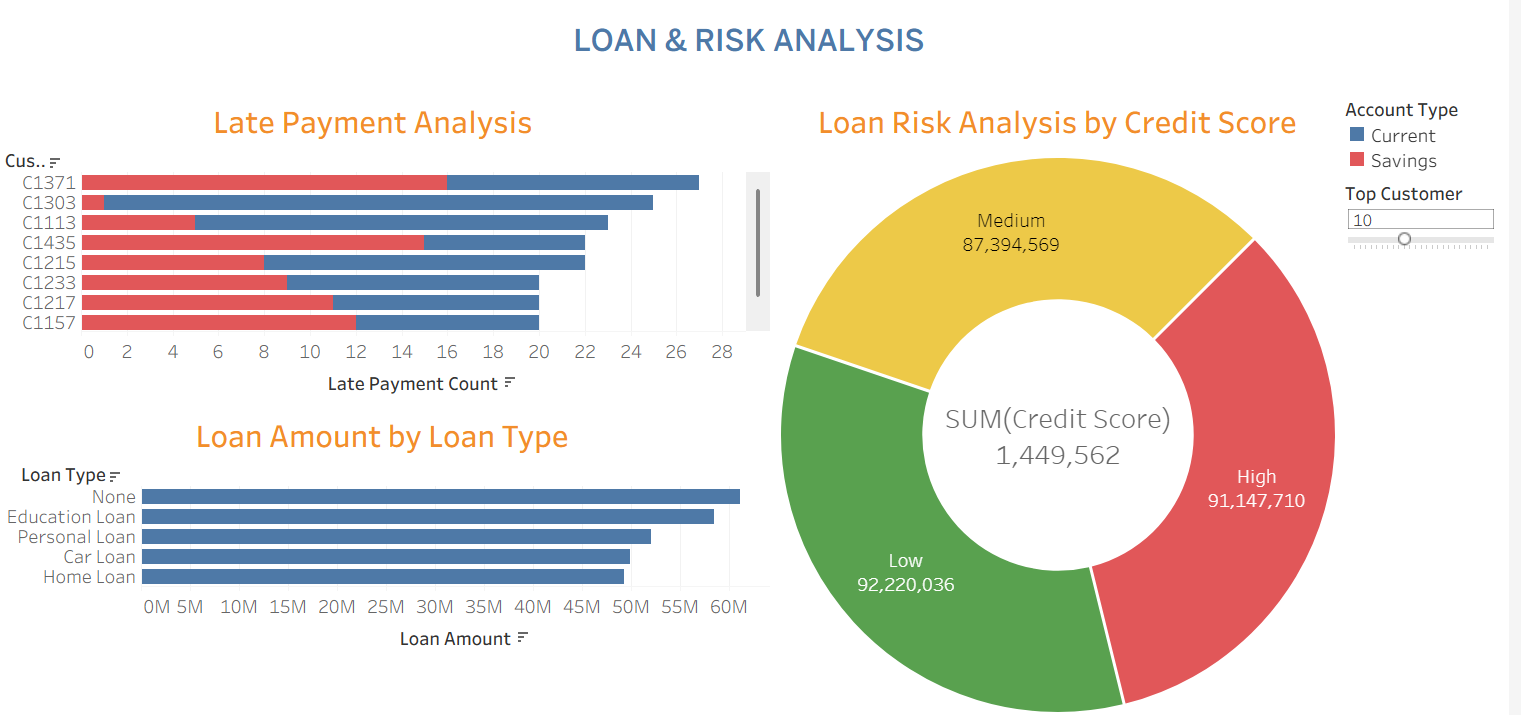

The page's visual inventory and layout, read from the dashboard file:
{"tool":"tableau","page":{"name":"Dashboard 2","canvas":[1000,1000],"units":"permille","ordinal":1},"visuals":[{"type":"text","box":[5,10.7,990,115.3]},{"type":"worksheet","title":"Sheet 9","mark":"Automatic","rows":["Customer ID"],"cols":["Transaction Amount"],"box":[5,126,543.6,431.6]},{"type":"worksheet","title":"Sheet 7","mark":"Circle","box":[548.6,126,346.6,863.3]},{"type":"legend","title":"Sheet 7","param":"[federated.1l0fd5g0equtmm1236foh0vm7iet].[none:Branch Name:nk]","box":[895.3,126,99.8,213.1]},{"type":"parameter","param":"[Parameters].[Parameter 1]","box":[895.3,339.1,99.8,111.3]},{"type":"legend","title":"Sheet 8","param":"[federated.1l0fd5g0equtmm1236foh0vm7iet].[none:Branch Name:nk]","box":[895.3,450.4,99.8,213.1]},{"type":"worksheet","title":"Sheet 8","mark":"Automatic","rows":["Transaction Amount"],"cols":["Transaction Type","Branch Name"],"box":[5,557.6,543.6,431.6]}]}

Visuals, with their boxes on the dashboard's canvas, which has no fixed pixel size, in thousandths of its width and height (x1, y1, x2, y2). These are canvas units, not pixel positions in the 1521x715 screenshot, which may show the page scaled, cropped or inside an application window:
text: pyautogui.locateOnScreen(5, 11, 995, 126)
"Sheet 9" worksheet: pyautogui.locateOnScreen(5, 126, 549, 558)
"Sheet 7" worksheet (Circle marks): pyautogui.locateOnScreen(549, 126, 895, 989)
"Sheet 7" legend: pyautogui.locateOnScreen(895, 126, 995, 339)
parameter: pyautogui.locateOnScreen(895, 339, 995, 450)
"Sheet 8" legend: pyautogui.locateOnScreen(895, 450, 995, 664)
"Sheet 8" worksheet: pyautogui.locateOnScreen(5, 558, 549, 989)
